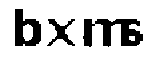6: (124, 14, 148, 47)
b: (9, 4, 44, 51)
m: (81, 16, 126, 48)
x: (46, 17, 78, 49)
